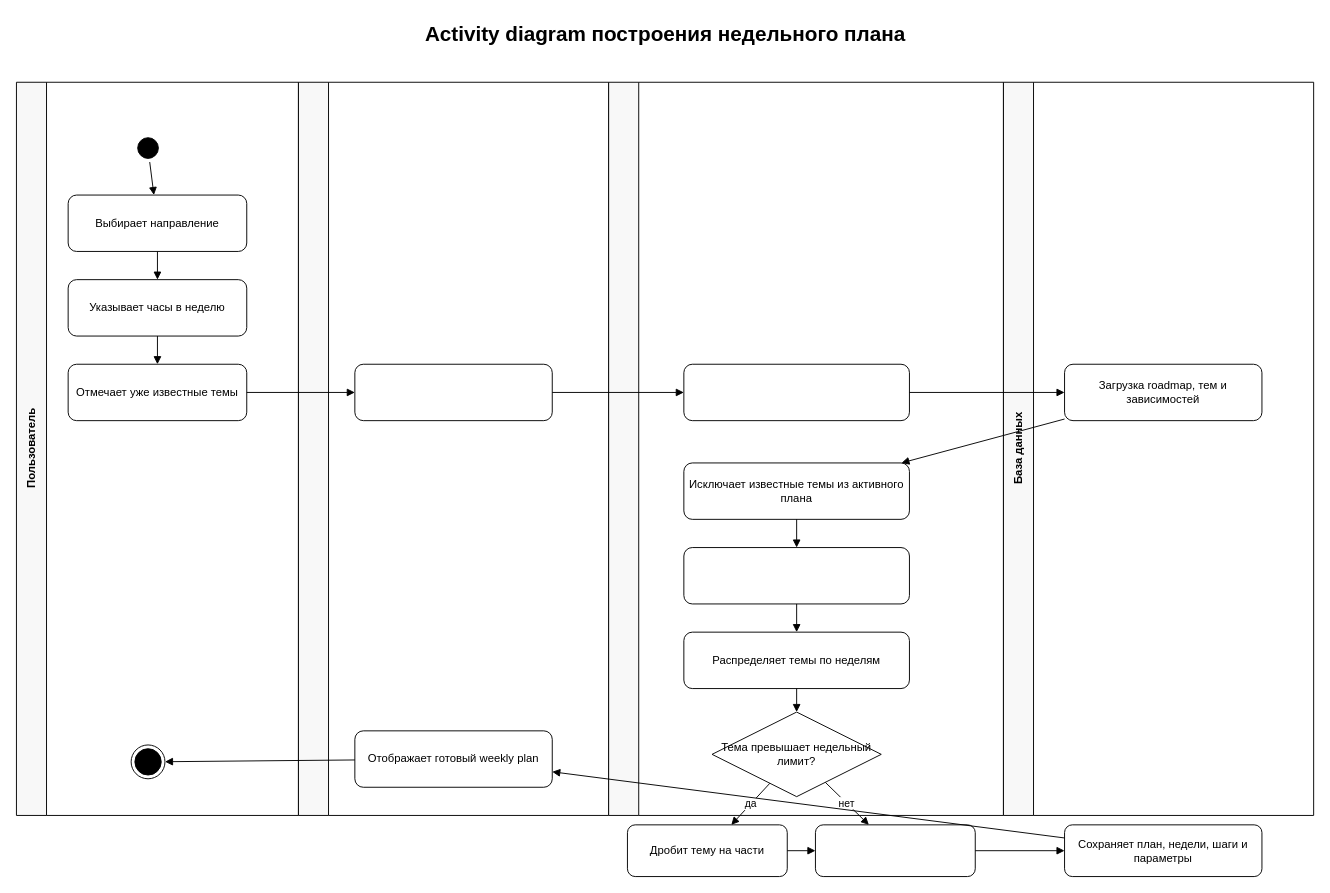
Some shapes in this 1330 by 893 pixel diagram are drawn without their labels. The shapes that lost their labels are listed below. From the top down, each one's box as (x1, y1, x2, y2) in pixels, then its label:
(354, 363, 552, 421): Формирует запрос построения плана
(683, 363, 909, 421): Получает параметры пользователя
(298, 81, 609, 815): Frontend
(608, 81, 1003, 815): Backend
(683, 547, 909, 604): Проверяет зависимости и порядок изучения
(815, 824, 975, 877): Формирует итоговые недели и шаги
